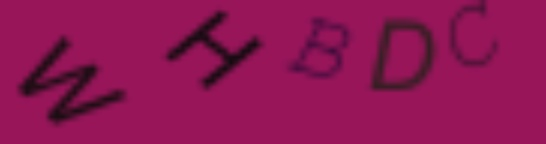B: (287, 14, 349, 81)
C: (447, 1, 504, 69)
D: (366, 17, 436, 96)
H: (162, 9, 266, 93)
W: (18, 33, 127, 126)
